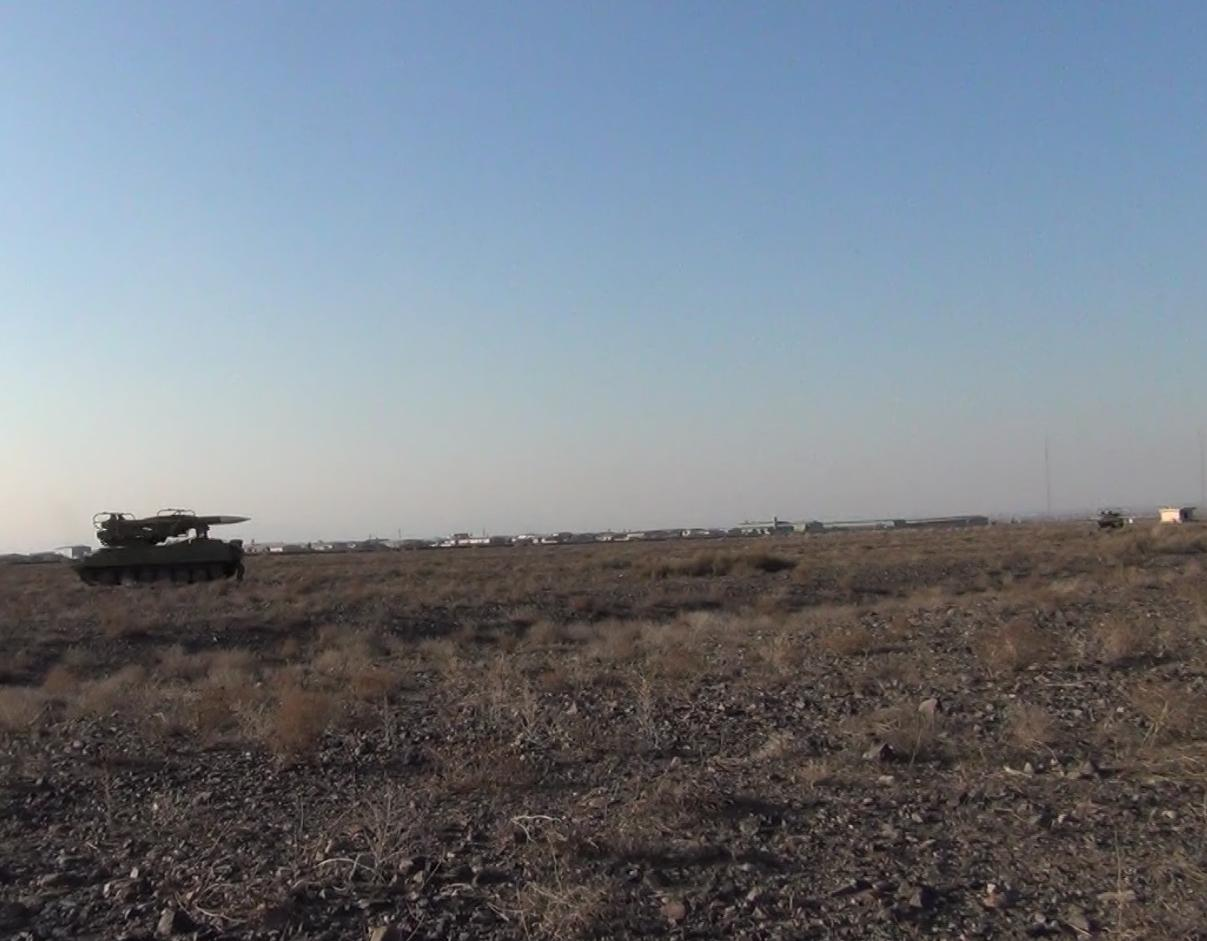armored_car: (66, 505, 254, 590)
